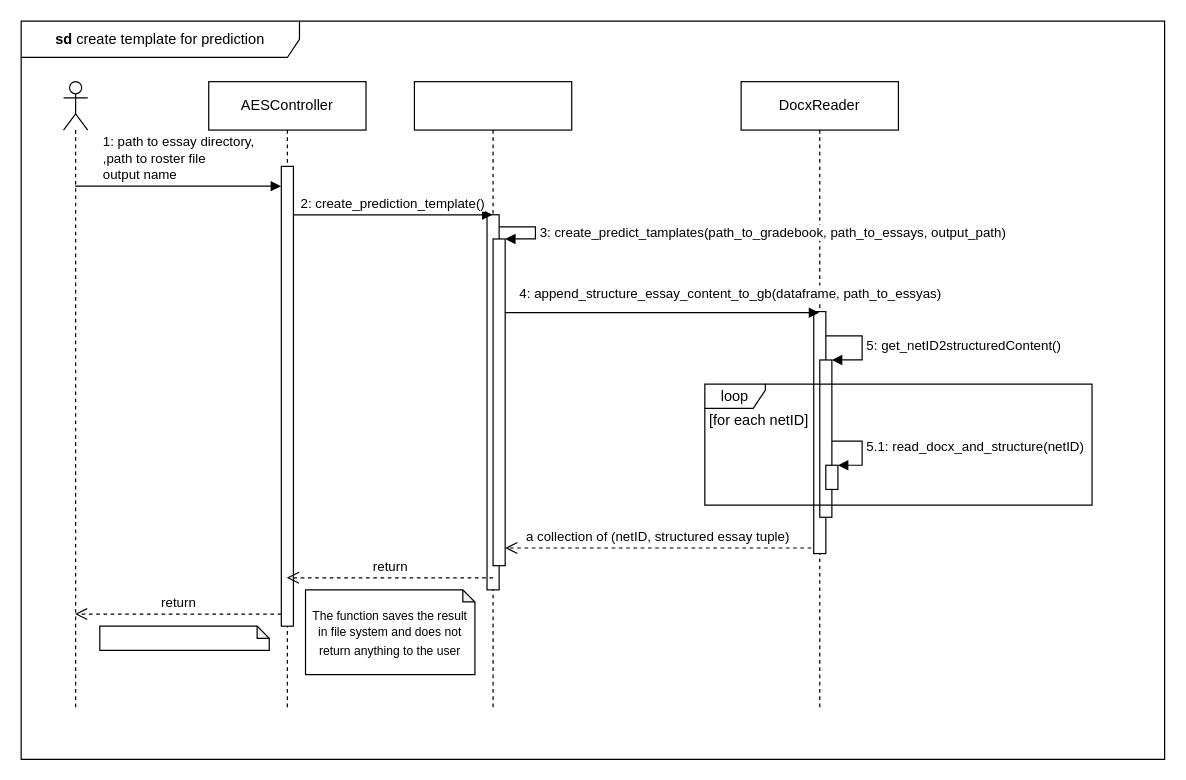
This 1186x780 diagram has some shape labels left out. The centre of each missing label's shape, as x and y in pixels:
PreProcessor: pixel 492 395
Success message: pixel 184 637
